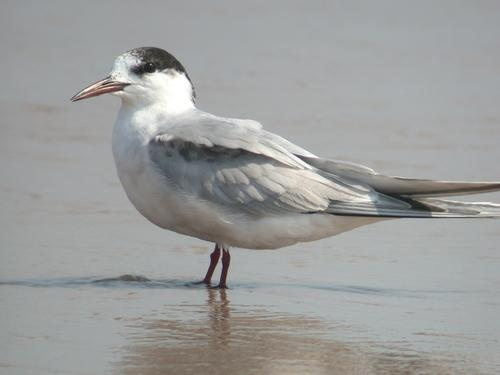bird: (68, 44, 500, 290)
